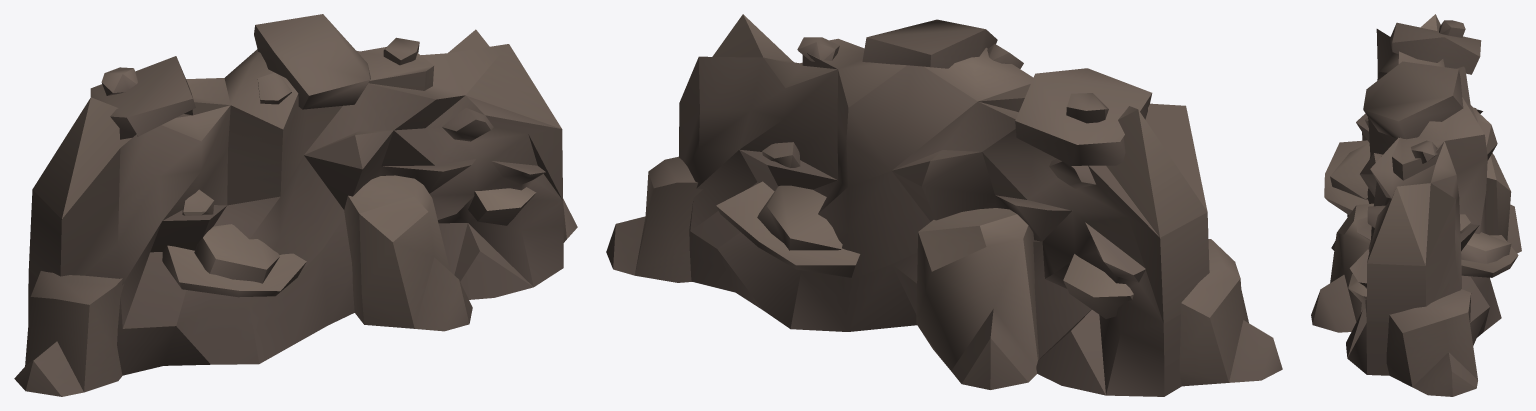
Rendered from dg_rubble_large.glb.
The picture shows the model from 3 angles, left to right: view 1: azimuth 30°, elevation 25°; view 2: azimuth 150°, elevation 25°; view 3: azimuth 270°, elevation 25°; orthographic projection. The views are drawn at different scales.
Visible parts, largest first — view 1: rubble_large; view 2: rubble_large; view 3: rubble_large.
Part boxes in pixels (x1,y1,x2,y2): rubble_large: [14, 14, 577, 396]; rubble_large: [606, 14, 1282, 396]; rubble_large: [1311, 14, 1521, 396].
Bounding box in the file's own units: 8.13 × 3.5 × 3.18.
1 material, 1 textured.
